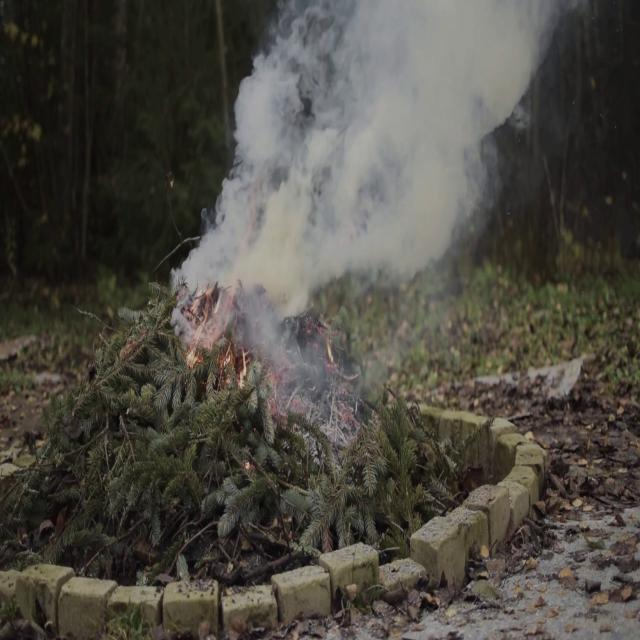Smoke: (176, 0, 564, 311)
